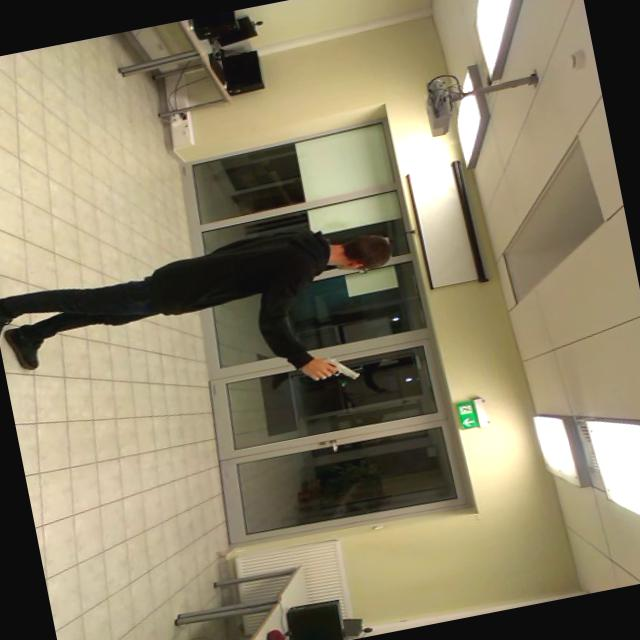handgun: (301, 351, 368, 392)
